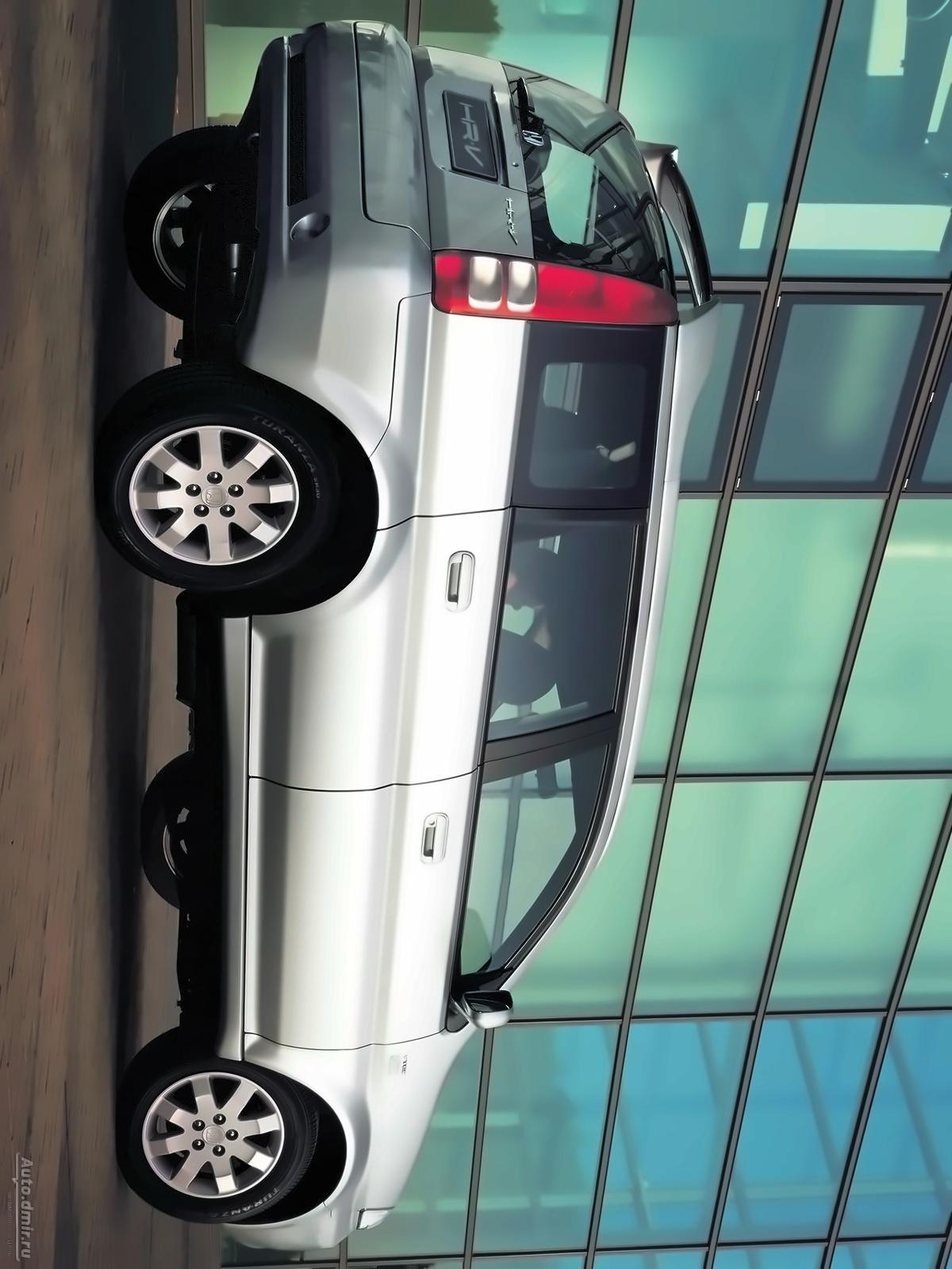Car boot: (343, 12, 686, 301)
Driver-s door - -F-R-: (235, 742, 625, 1057)
Fender - -F-R-: (236, 1027, 479, 1195)
Fender - -R-R-: (363, 292, 524, 534)
Front bumper: (204, 1196, 342, 1269)
Headlight - -R-: (347, 1194, 405, 1249)
Passenger-s door - -R-R-: (236, 506, 661, 792)
Rear bumper: (224, 14, 412, 469)
Rear light - -R-: (423, 236, 691, 332)
Side bumper - -R-: (183, 577, 273, 1091)
Side mirror - -R-: (441, 976, 522, 1046)
